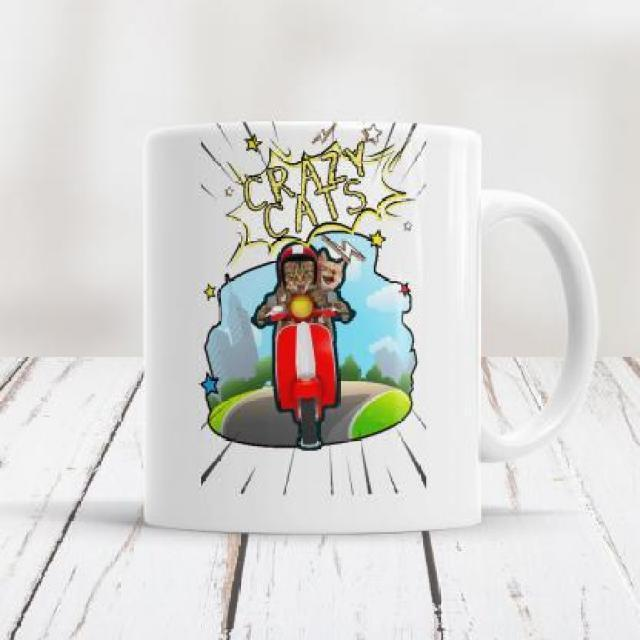taza: (125, 110, 607, 538)
